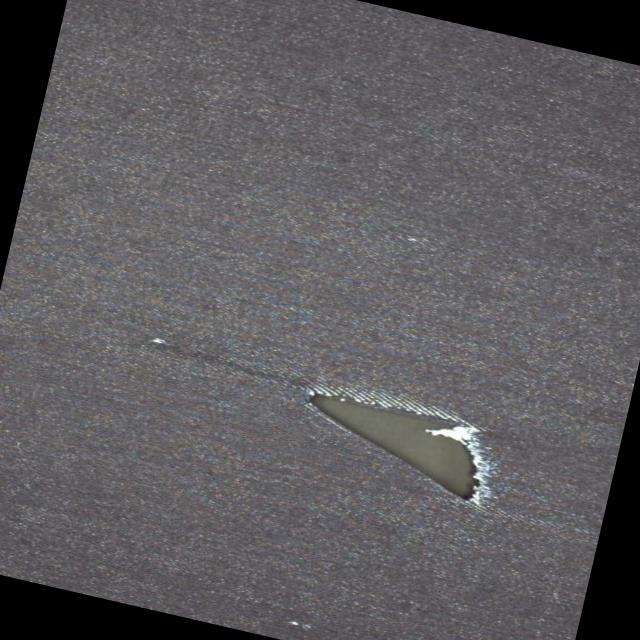hole: (280, 370, 510, 514)
